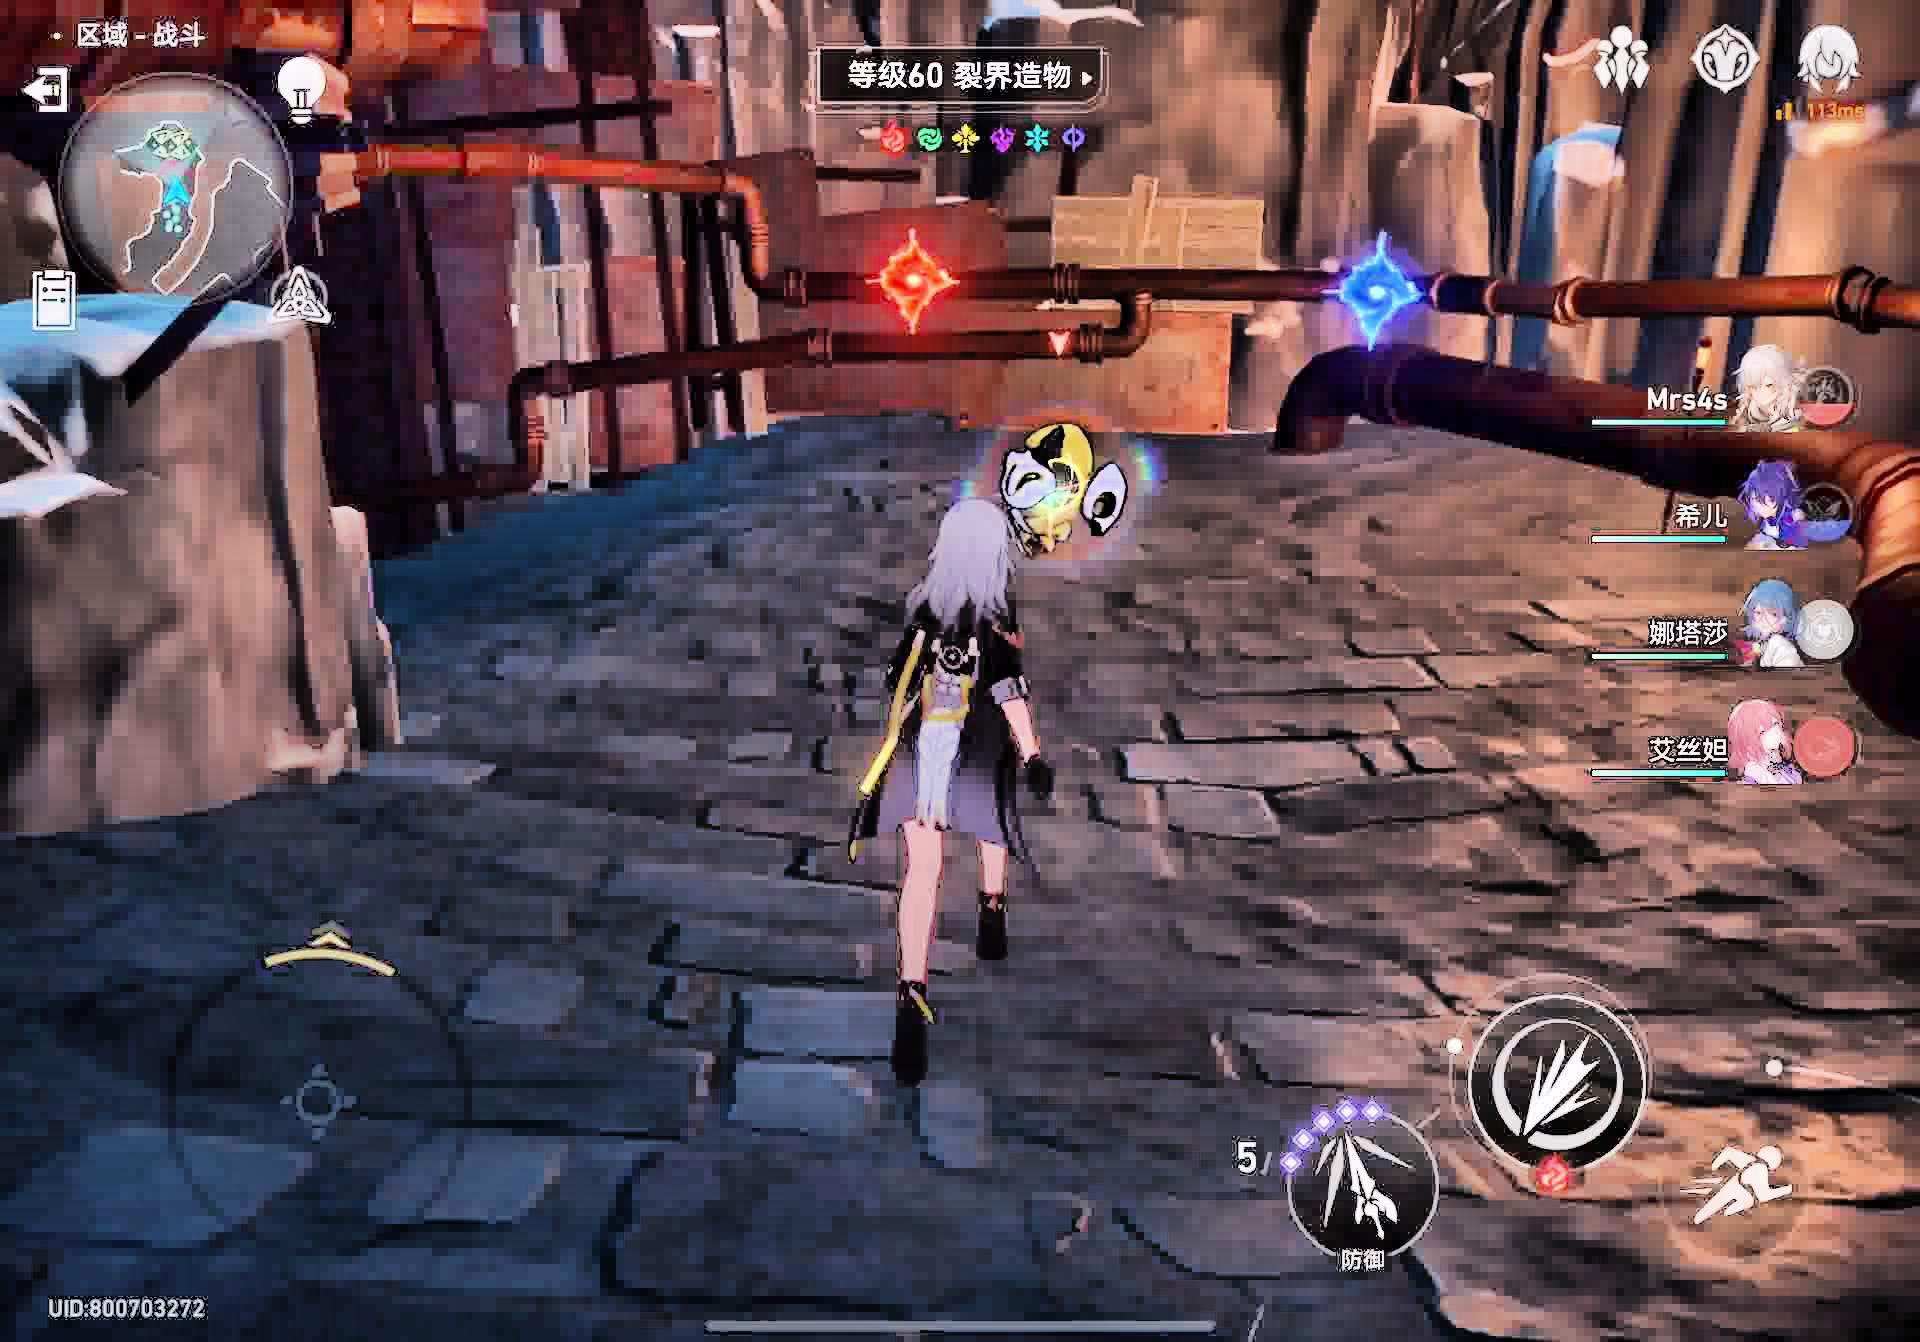BattleDoor: (855, 228, 967, 341)
Enemy: (999, 422, 1132, 557)
EventDoor: (1315, 236, 1427, 363)
Self: (864, 500, 1049, 1097)
